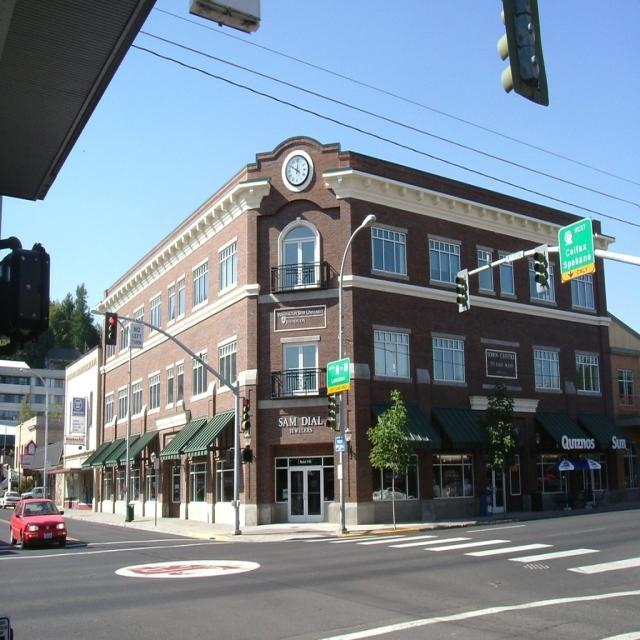off traffic light: (533, 250, 547, 286), (455, 274, 466, 304)
traffic light: (105, 314, 116, 341)
